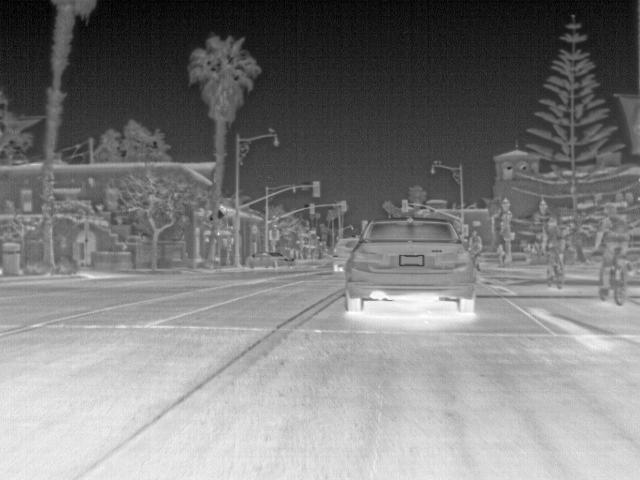car: (347, 218, 480, 312), (331, 236, 364, 276), (243, 249, 295, 270)
person: (591, 204, 631, 299), (538, 218, 566, 282), (494, 241, 508, 266)
